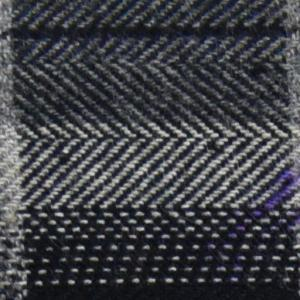Stain: (208, 165, 300, 300)
